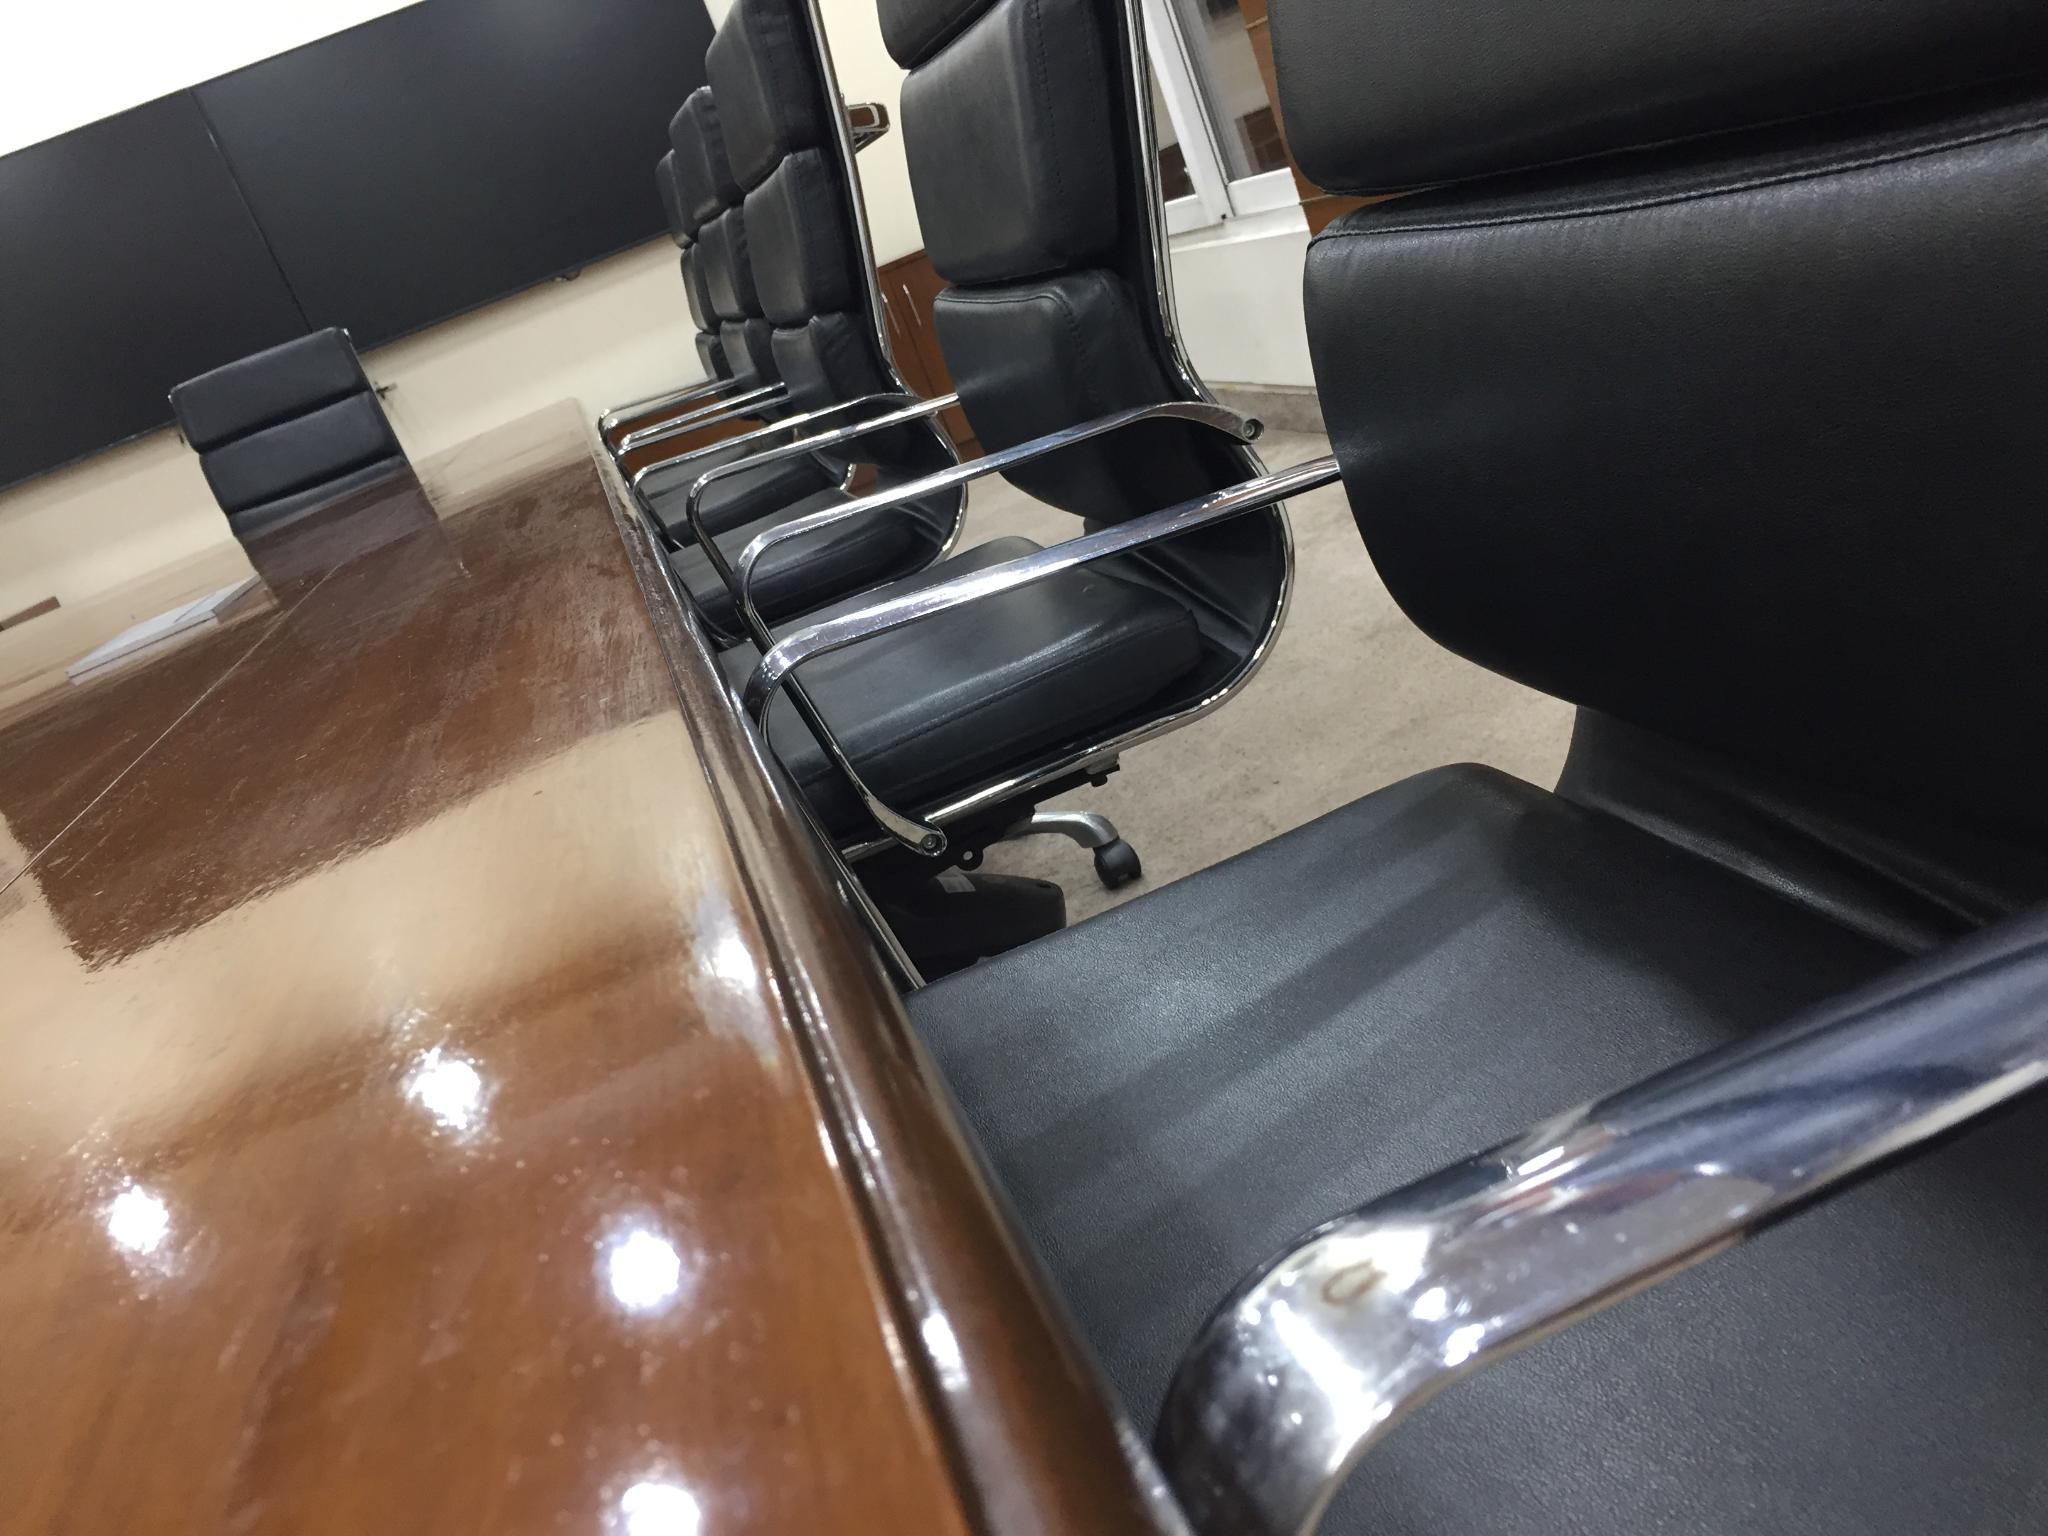chair: (895, 2, 2046, 1533), (711, 2, 1298, 895), (656, 95, 829, 571), (177, 295, 393, 553)
